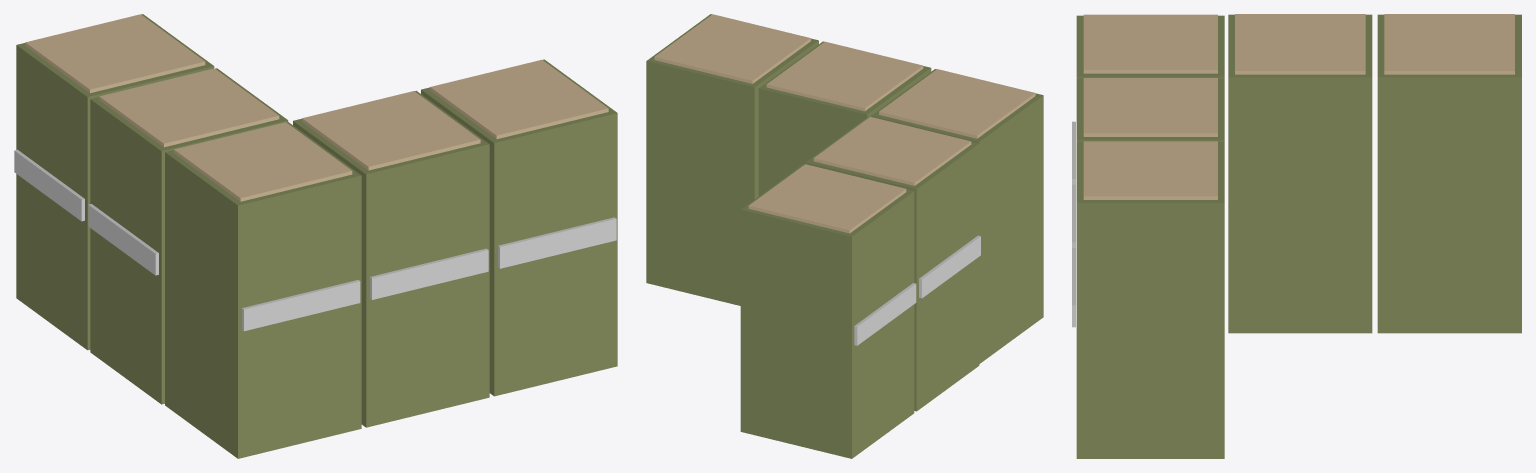
Rendered from SM_HescoEsquina_v0_MallaLimpia_e0_Sano_LOD1.fbx.
The picture shows the model from 3 angles, left to right: view 1: azimuth 30°, elevation 25°; view 2: azimuth 150°, elevation 25°; view 3: azimuth 270°, elevation 25°; orthographic projection. The views are drawn at different scales.
Parts seen in each view (by area): view 1: SM_hesco_piezas_v0_LOD1; view 2: SM_hesco_piezas_v0_LOD1; view 3: SM_hesco_piezas_v0_LOD1.
Part boxes in pixels (<box>): SM_hesco_piezas_v0_LOD1: <box>14,14,617,458</box>; SM_hesco_piezas_v0_LOD1: <box>646,14,1043,458</box>; SM_hesco_piezas_v0_LOD1: <box>1072,14,1521,458</box>.
Size of the model in its own units: 3.34 by 2.13 by 3.34.
